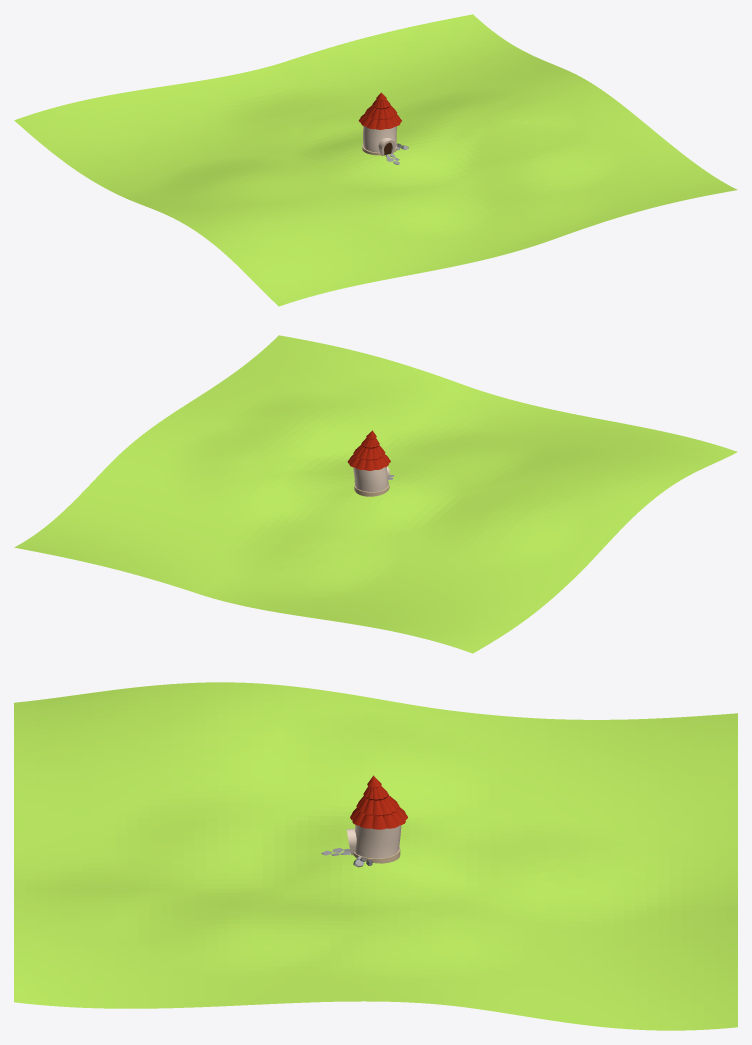
File: small_house.glb
3 renders of one model, top to bottom at view 1: azimuth 30°, elevation 25°; view 2: azimuth 150°, elevation 25°; view 3: azimuth 270°, elevation 25°, orthographic. The views are drawn at different scales.
Parts seen in each view (by area): view 1: Ground, House; view 2: Ground, House; view 3: Ground, House.
Boxes of the visible parts, bbox=[...] form: Ground: bbox=[14, 14, 737, 306]; House: bbox=[358, 92, 401, 156]; Ground: bbox=[14, 335, 737, 653]; House: bbox=[347, 430, 390, 496]; Ground: bbox=[14, 682, 737, 1030]; House: bbox=[347, 775, 407, 863].
Bounding box in the file's own units: 80.03 × 13.5 × 80.01.
1 material, 1 textured.
